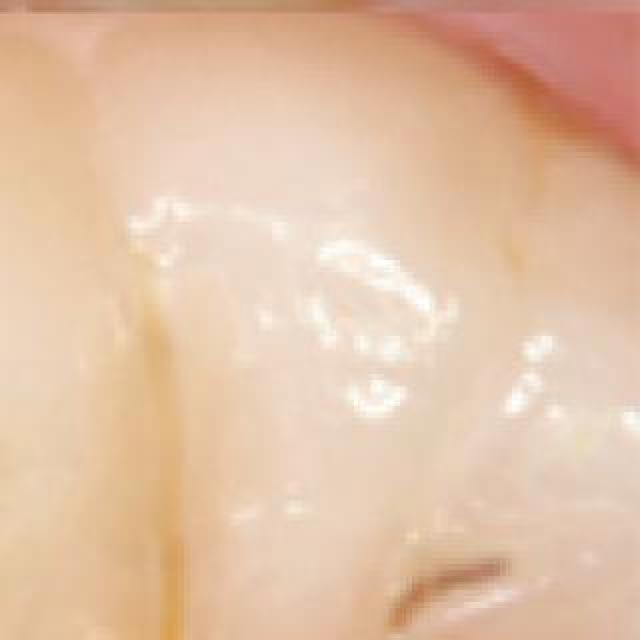cavities: (326, 466, 610, 640)
